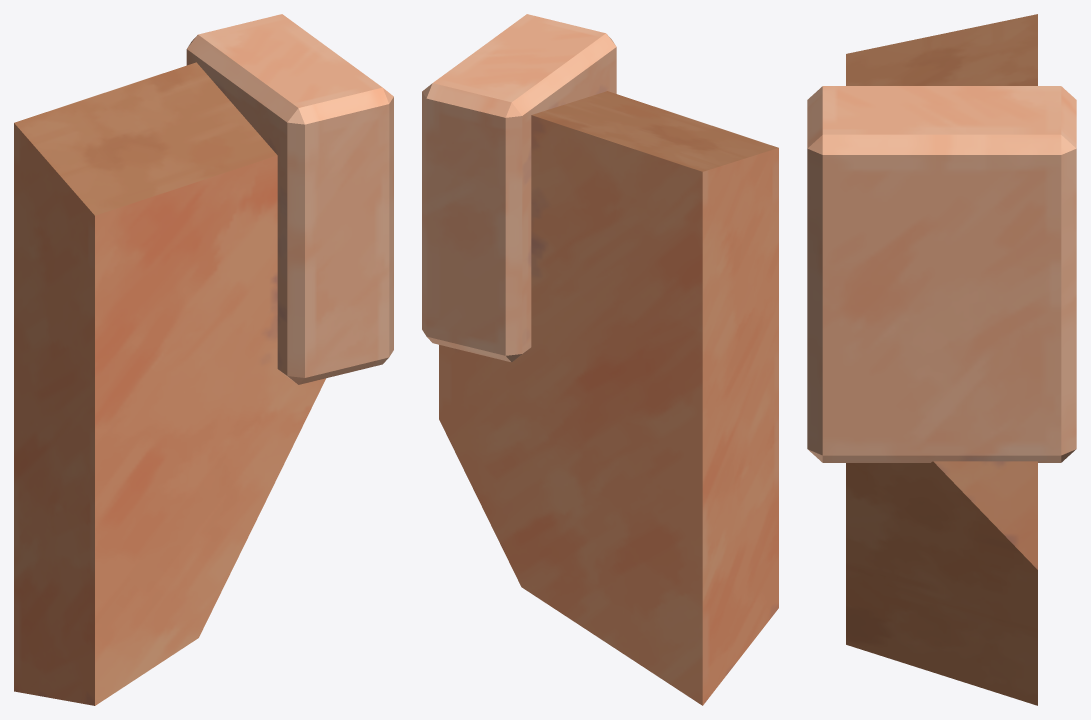
Rendered from wall_door_s09.fbx.
The picture shows the model from 3 angles, left to right: view 1: azimuth 30°, elevation 25°; view 2: azimuth 150°, elevation 25°; view 3: azimuth 270°, elevation 25°; orthographic projection. The views are drawn at different scales.
Visible parts, largest first — view 1: wall_door_s09; view 2: wall_door_s09; view 3: wall_door_s09.
Part boxes in pixels (<box>): wall_door_s09: <box>14,14,393,705</box>; wall_door_s09: <box>422,14,778,705</box>; wall_door_s09: <box>807,14,1076,705</box>.
Bounding box in the file's own units: 2.06 × 4.1 × 1.4.
